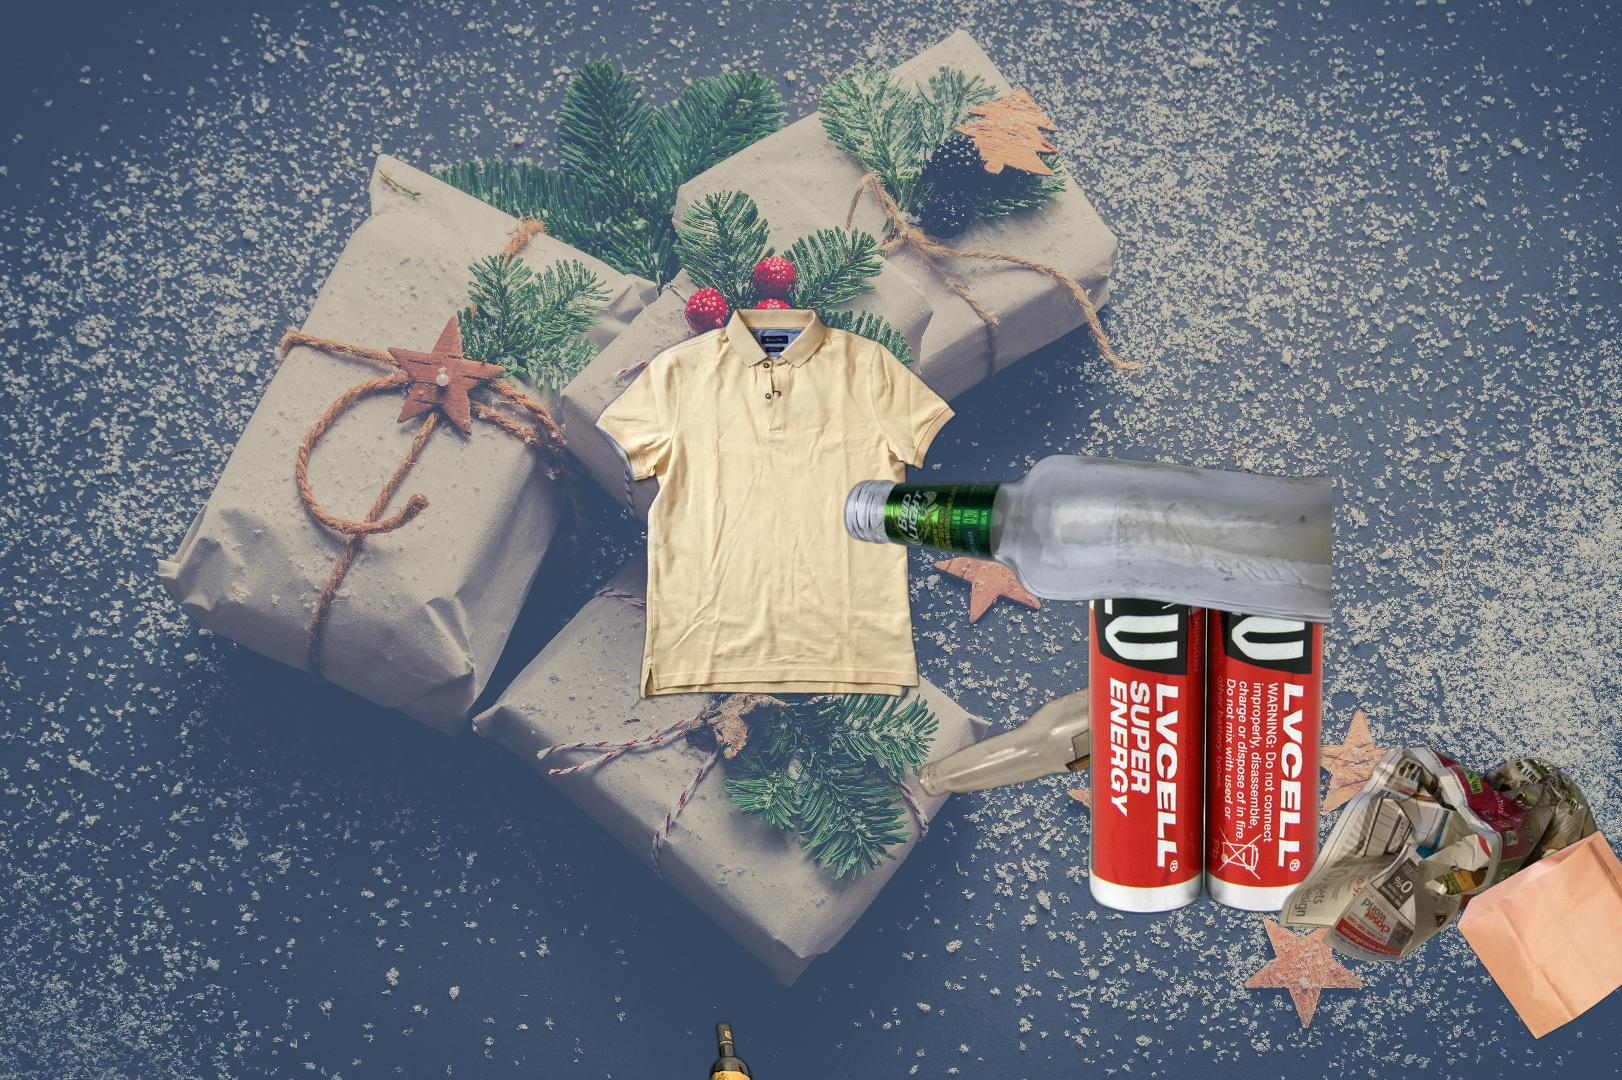battery: (1082, 483, 1333, 918)
clothes: (590, 304, 963, 704)
glass: (840, 451, 1332, 629), (913, 650, 1217, 799), (706, 1019, 772, 1080)
paper: (1275, 742, 1611, 968)
paper-bag: (1453, 829, 1622, 1043)
